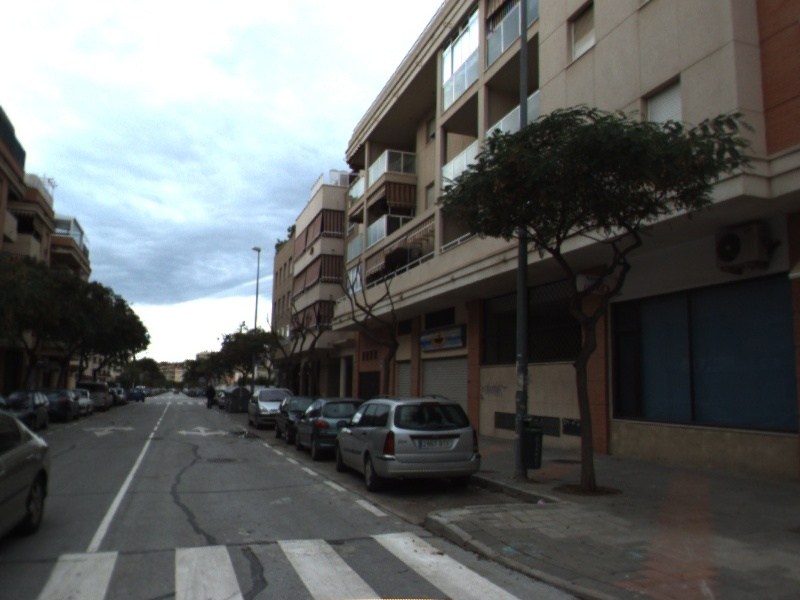STRAIGHT_LEFT_RIGHT: (174, 424, 231, 439)
